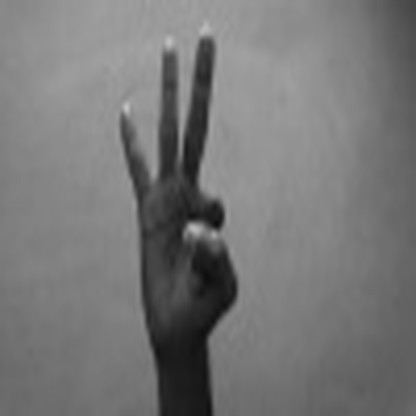f: (113, 24, 249, 339)
